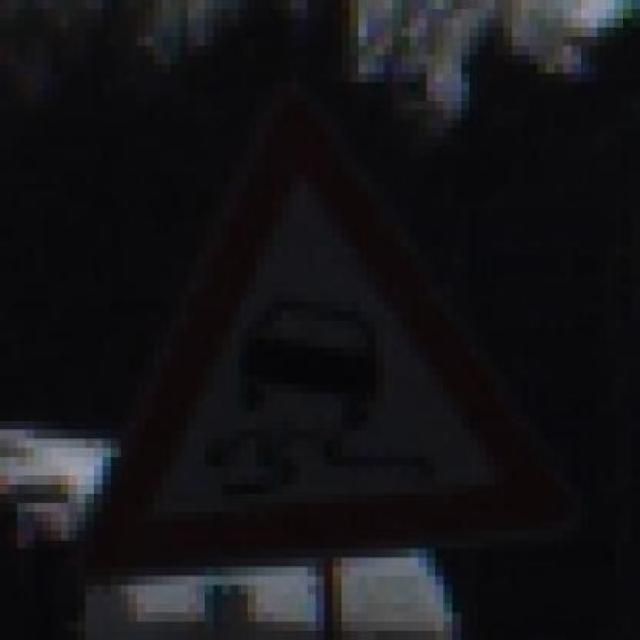Slippery Road Ahead: (59, 64, 598, 585)
